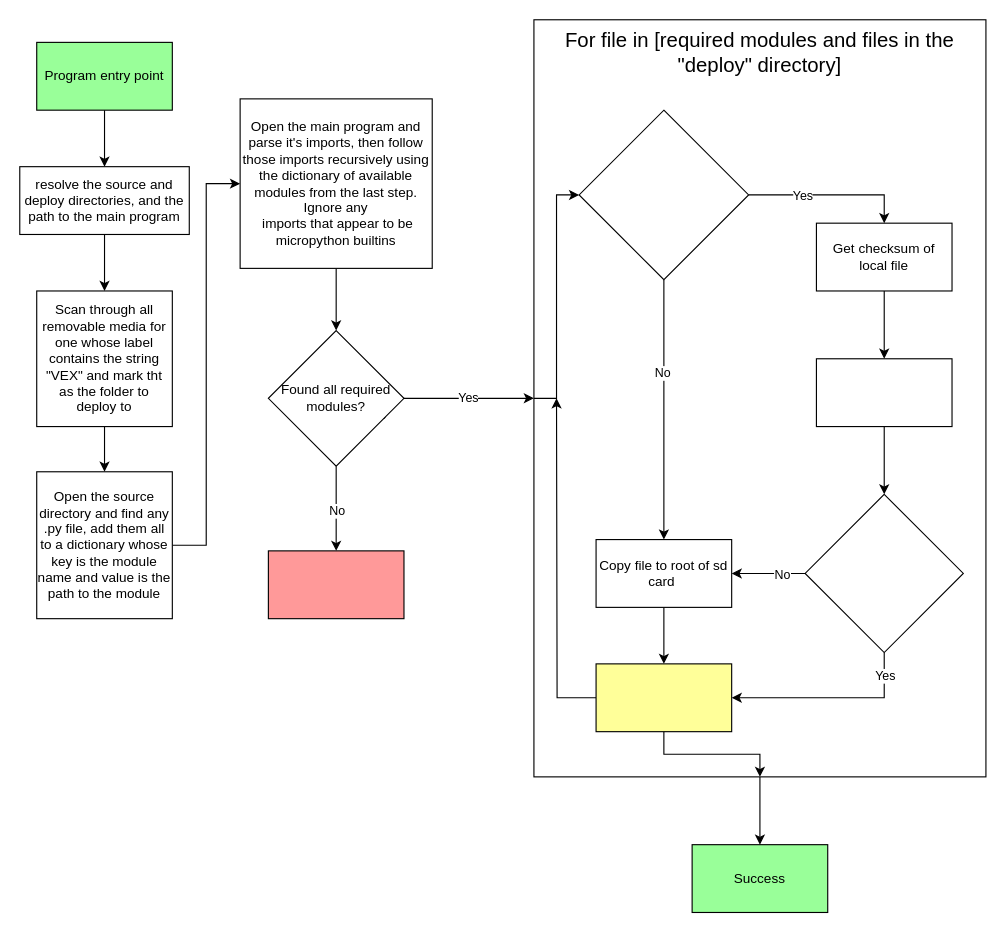
The diagram is 1006 pixels wide and 932 high, and some of its shapes have lost their labels. Each missing label, with the centre of its shape:
"Does remote file exist?" goes at pixel 663 194.
"Exit and print failure message" goes at pixel 335 584.
"Get checksum of remote file" goes at pixel 883 392.
"Local checksum == remote checksum?" goes at pixel 883 573.
"Next loop iteration or exit if loop complete" goes at pixel 663 697.
